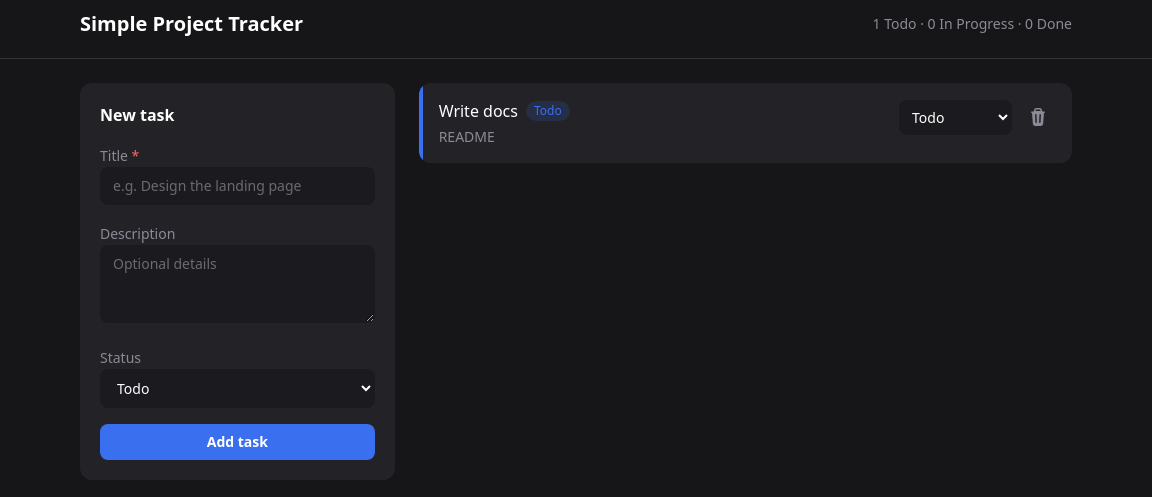
it: updating and deleting › deletes a task after confirmation
Expected: the heading "Write docs" is shown, top-left (439, 99), bottom-right (518, 123)
Click the button named "Delete Write docs".
click(1038, 117)  # box top-left (1020, 99), bottom-right (1056, 135)
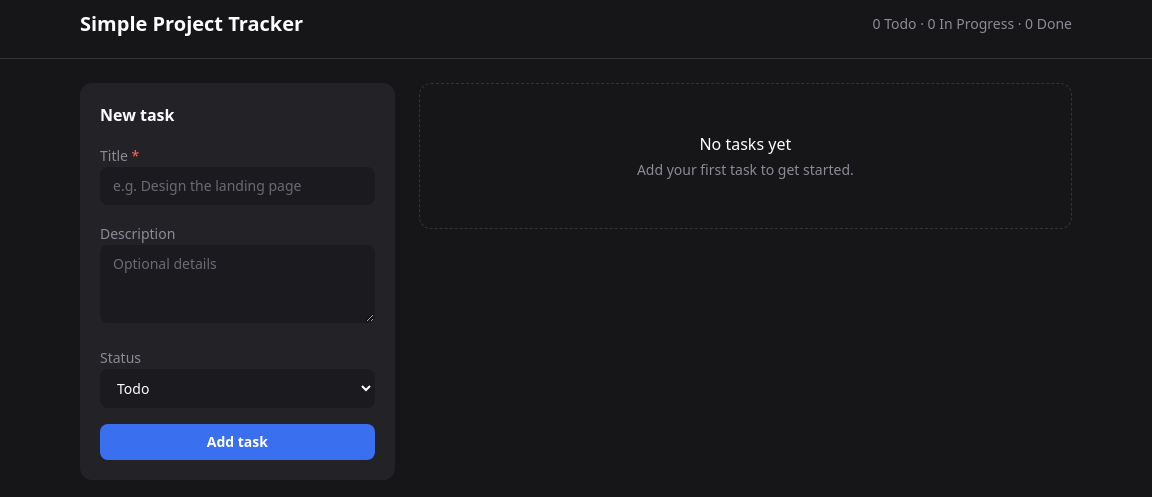
Expected: the heading "Write docs" is gone
Expected: the text "No tasks yet" is shown, top-left (700, 133), bottom-right (791, 155)
